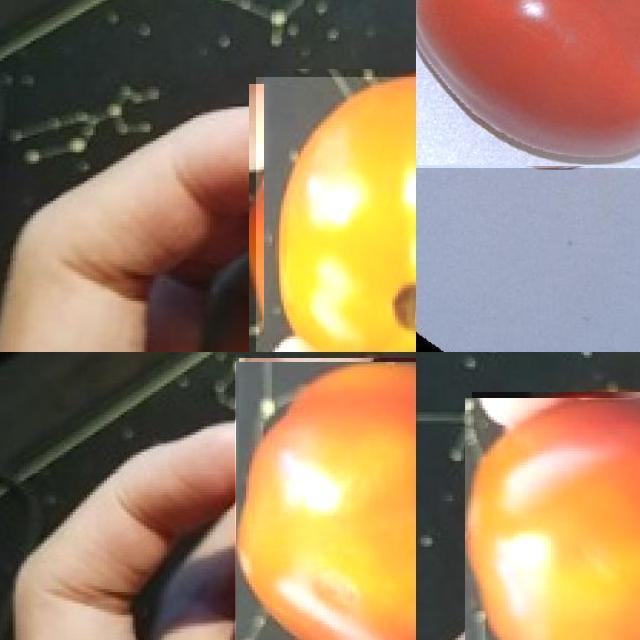Fresh Tomato: (236, 362, 416, 640), (256, 76, 416, 352), (465, 399, 640, 640), (416, 0, 640, 168)
